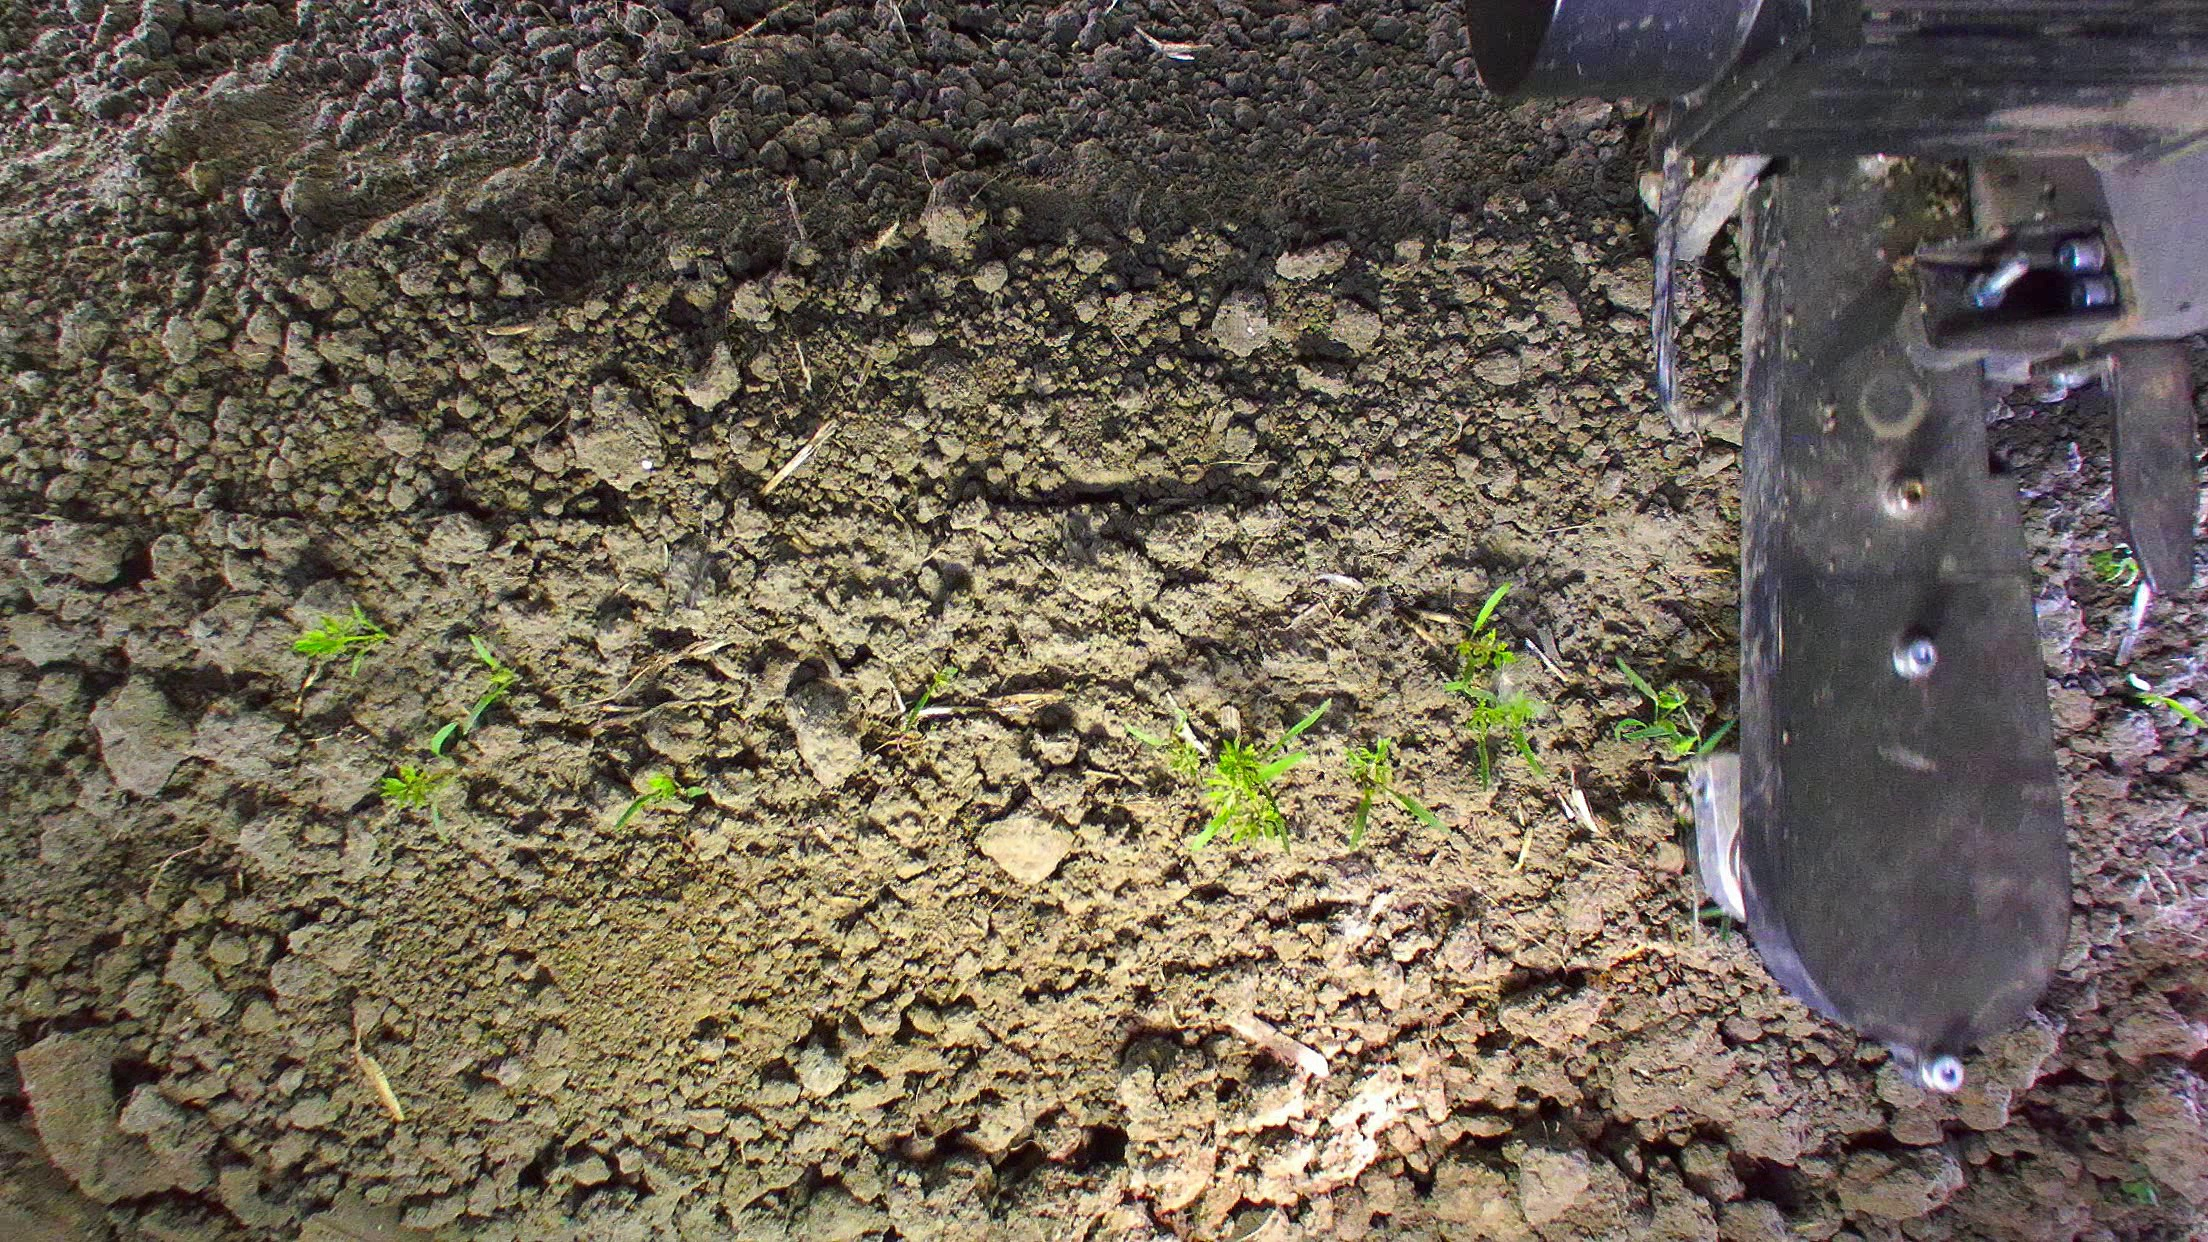Crop: (1165, 698, 1327, 849), (1441, 578, 1545, 789), (425, 632, 517, 763), (285, 602, 390, 679), (1342, 735, 1395, 848), (613, 770, 678, 836), (375, 761, 459, 811), (2088, 547, 2141, 591)
